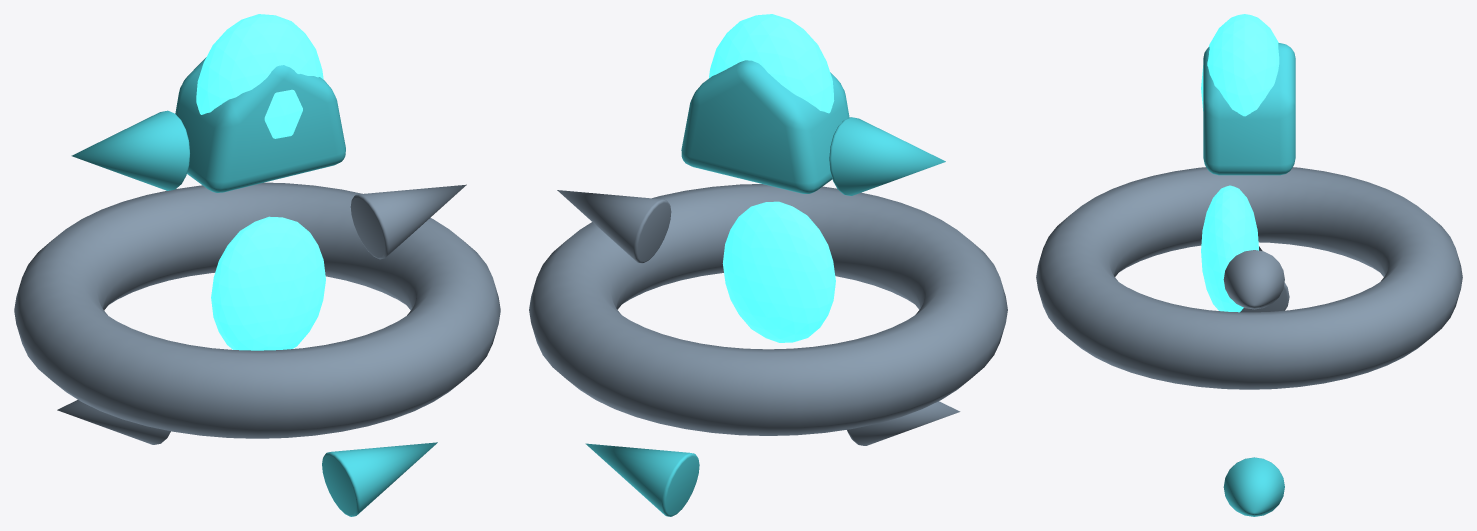
Rendered from ring_v3.glb.
The picture shows the model from 3 angles, left to right: view 1: azimuth 30°, elevation 25°; view 2: azimuth 150°, elevation 25°; view 3: azimuth 270°, elevation 25°; orthographic projection. The views are drawn at different scales.
Visible parts, largest first — view 1: RING_BAND_PRIMARY, RING_SETTING_ACCENT, VARIANT_CORE_EMISSIVE, RING_GEM_EMISSIVE, VARIANT_SPINE_ACCENT.001, VARIANT_SPINE_ACCENT, VARIANT_SPINE_PRIMARY.001, VARIANT_SPINE_PRIMARY; view 2: RING_BAND_PRIMARY, RING_SETTING_ACCENT, VARIANT_CORE_EMISSIVE, RING_GEM_EMISSIVE, VARIANT_SPINE_ACCENT.001, VARIANT_SPINE_ACCENT, VARIANT_SPINE_PRIMARY.001, VARIANT_SPINE_PRIMARY; view 3: RING_BAND_PRIMARY, RING_SETTING_ACCENT, RING_GEM_EMISSIVE, VARIANT_CORE_EMISSIVE, VARIANT_SPINE_ACCENT, VARIANT_SPINE_PRIMARY.001.
Boxes of the visible parts, x1,y1,x2,y2 form: RING_BAND_PRIMARY: [14, 182, 500, 438]; RING_SETTING_ACCENT: [175, 57, 345, 192]; VARIANT_CORE_EMISSIVE: [211, 216, 325, 350]; RING_GEM_EMISSIVE: [196, 14, 323, 138]; VARIANT_SPINE_ACCENT.001: [71, 110, 189, 190]; VARIANT_SPINE_ACCENT: [322, 442, 437, 516]; VARIANT_SPINE_PRIMARY.001: [350, 184, 466, 259]; VARIANT_SPINE_PRIMARY: [57, 400, 170, 444]; RING_BAND_PRIMARY: [529, 184, 1007, 435]; RING_SETTING_ACCENT: [681, 60, 849, 193]; VARIANT_CORE_EMISSIVE: [722, 201, 835, 342]; RING_GEM_EMISSIVE: [709, 14, 834, 113]; VARIANT_SPINE_ACCENT.001: [829, 117, 945, 195]; VARIANT_SPINE_ACCENT: [585, 443, 699, 516]; VARIANT_SPINE_PRIMARY.001: [557, 190, 671, 263]; VARIANT_SPINE_PRIMARY: [847, 401, 960, 445]; RING_BAND_PRIMARY: [1036, 167, 1462, 389]; RING_SETTING_ACCENT: [1203, 43, 1295, 175]; RING_GEM_EMISSIVE: [1201, 14, 1279, 116]; VARIANT_CORE_EMISSIVE: [1201, 185, 1258, 312]; VARIANT_SPINE_ACCENT: [1223, 457, 1284, 516]; VARIANT_SPINE_PRIMARY.001: [1223, 250, 1284, 309].
Size of the model in its own units: 1.77 by 2.09 by 1.76.
